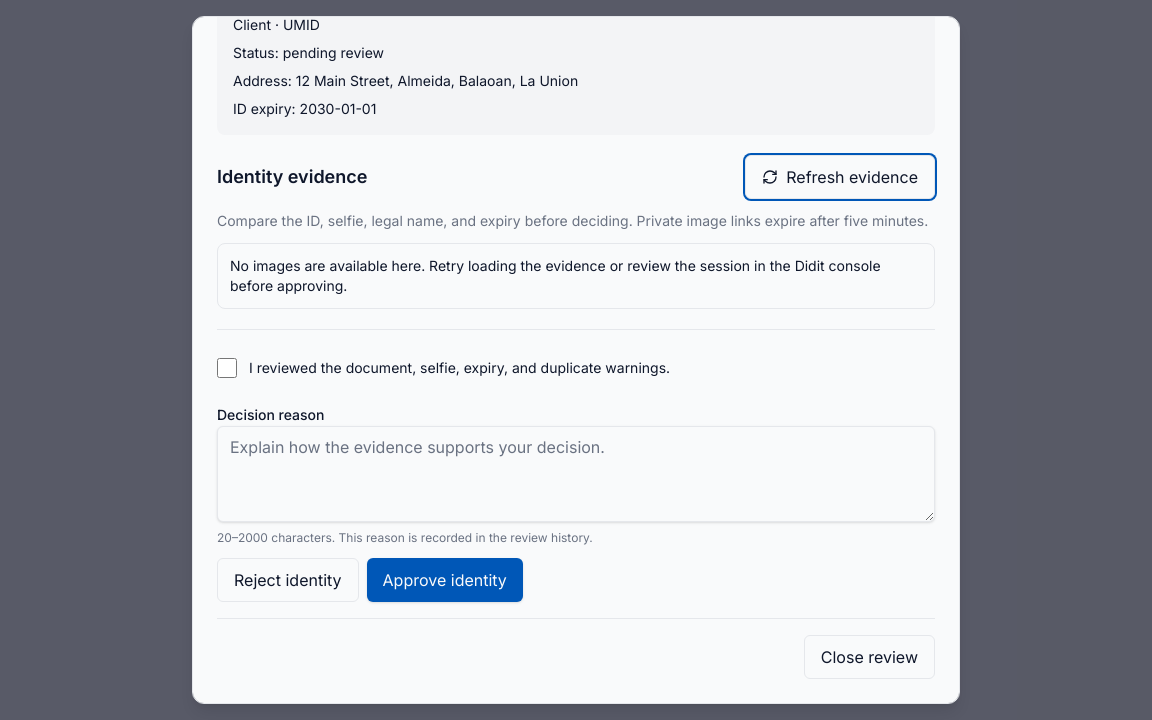
Test: identity review decisions › requires evidence acknowledgement, a reason, and explicit confirmation
(page scrolled)
Expected: the text "Address: 12 Main Street, Almeida, Balaoan, La Union" is shown, 233,72 -> 578,89
Click the button "Approve identity": click(445, 580) 367,558 -> 523,602
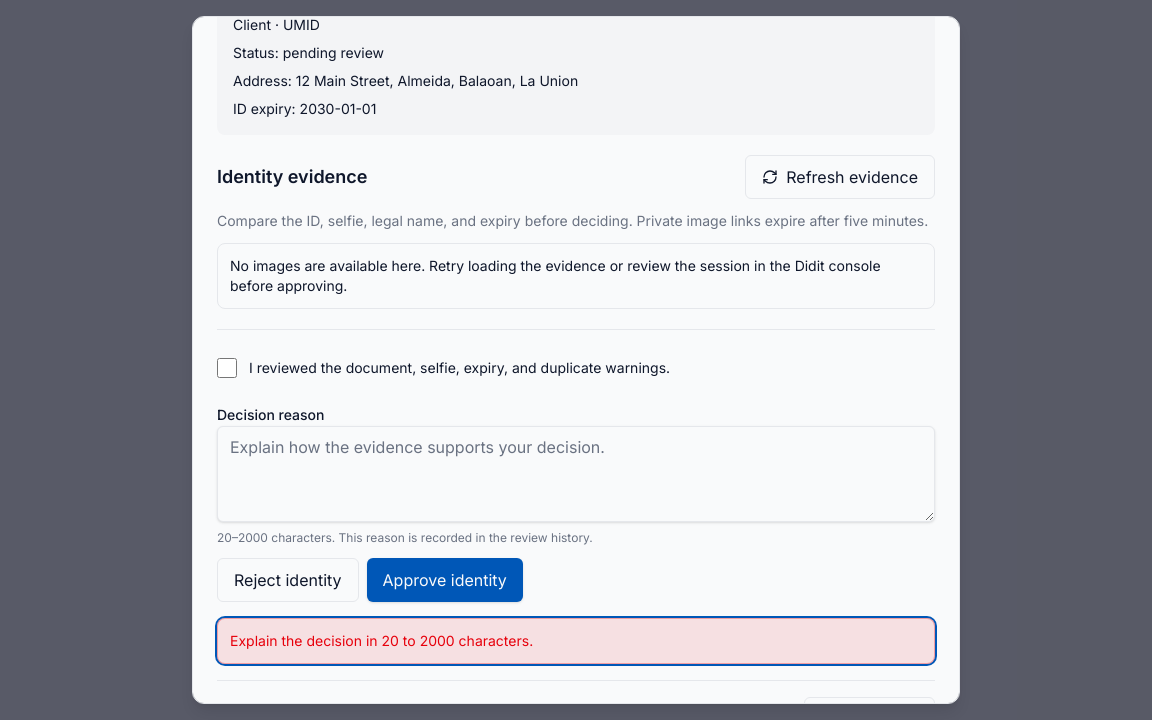
Expected: the message shows "20 to 2000", 230,632 -> 533,649
In the text box labelled "Decision reason": (576, 474) 217,426 -> 935,522, type "The document and selfie match the applicant."
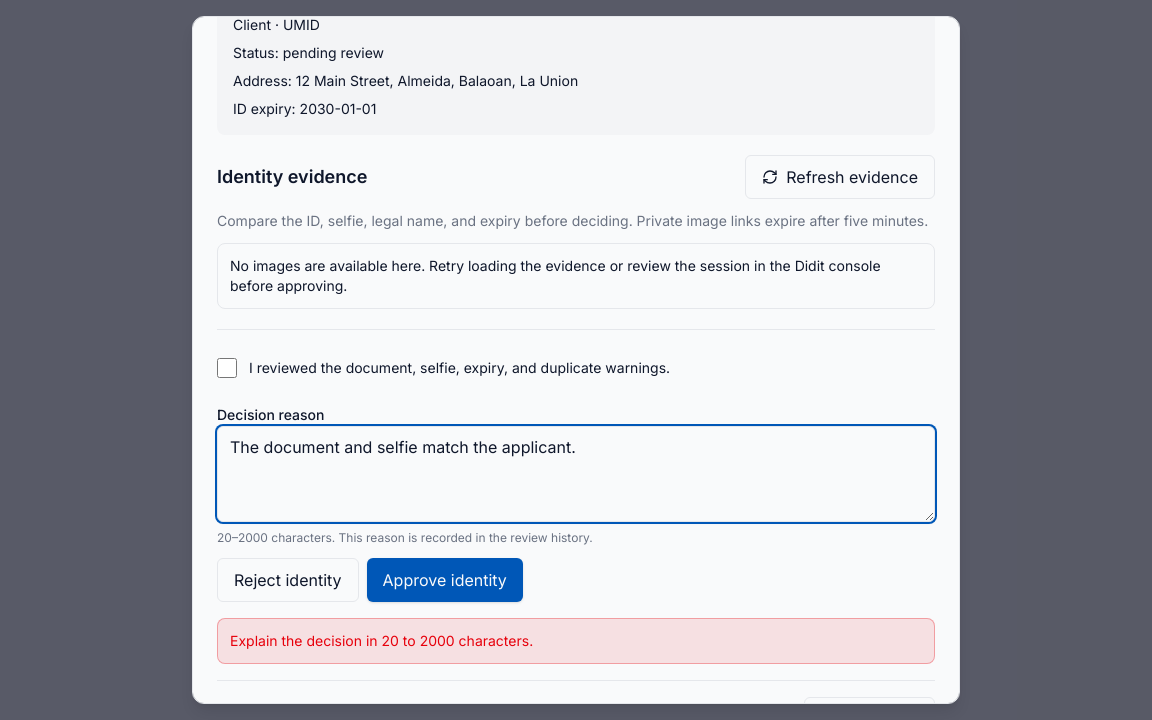
Click the button "Approve identity": click(445, 580) 367,558 -> 523,602
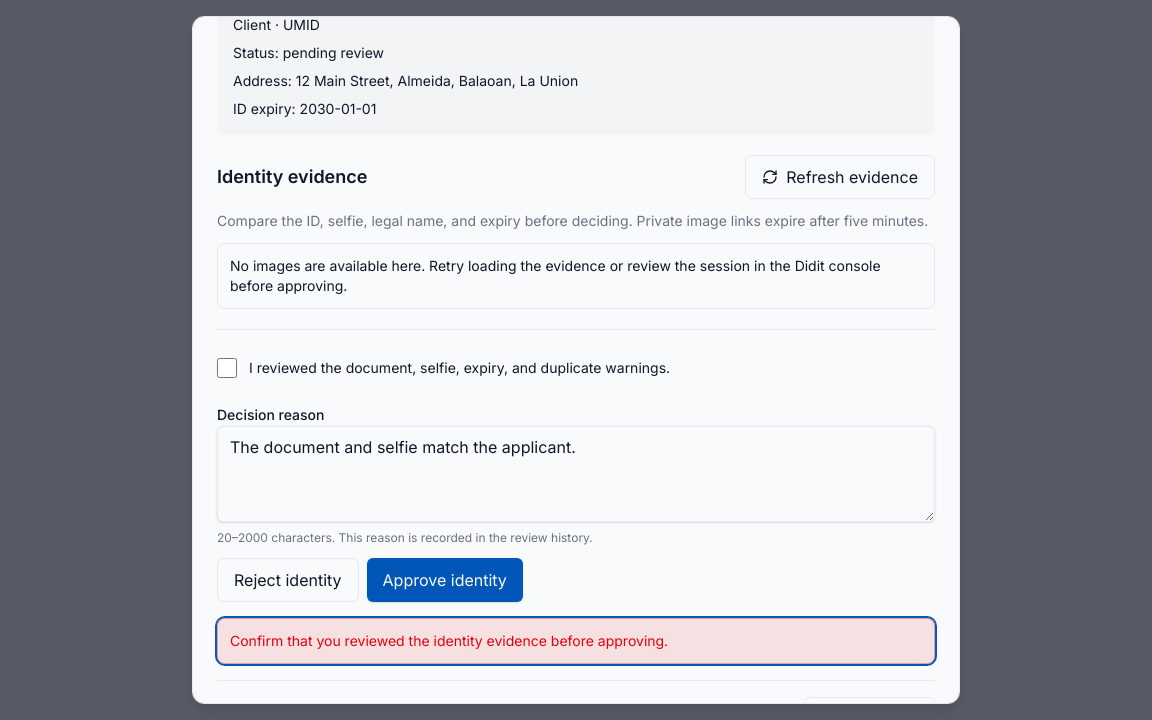
Expected: the message shows "reviewed the identity evidence", 230,632 -> 668,649
Click the checkbox: click(227, 368) 217,358 -> 237,378
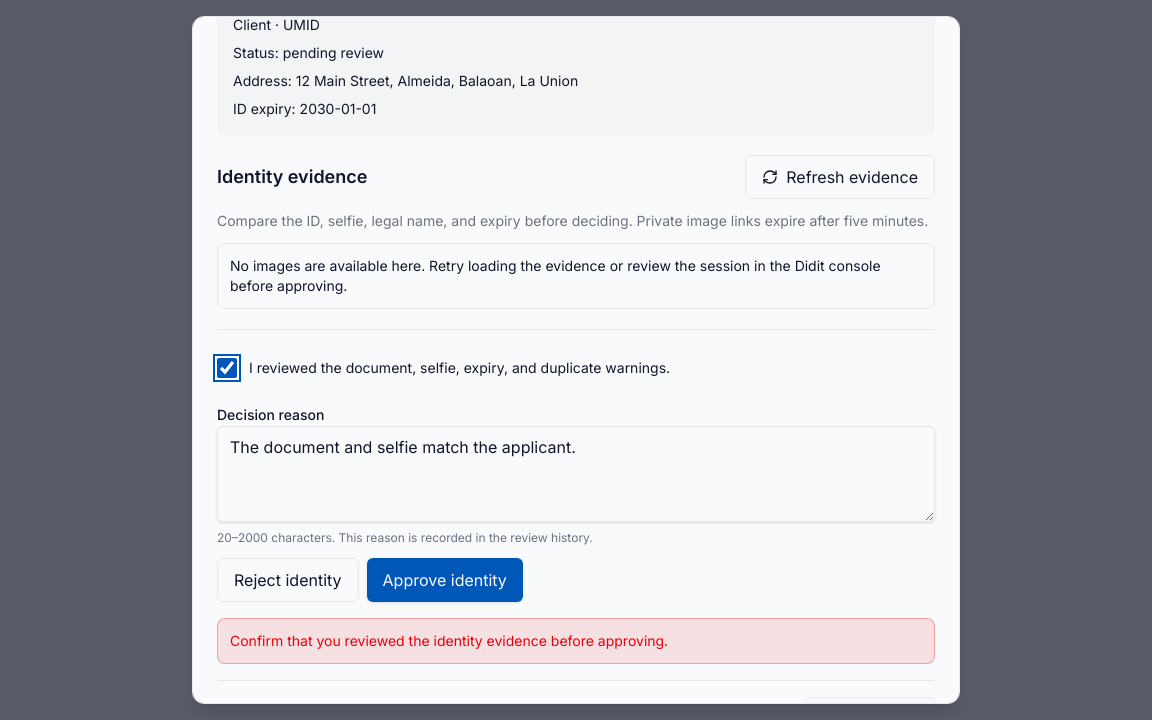
Click the button "Approve identity": click(445, 580) 367,558 -> 523,602
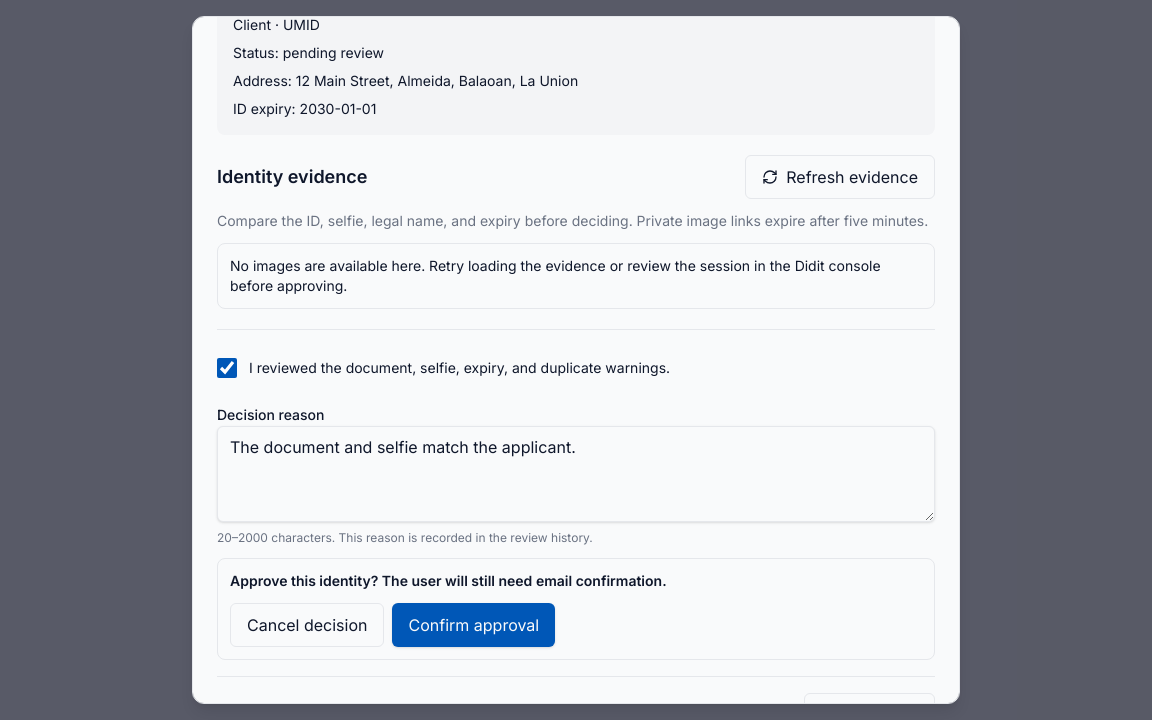
Click the button "Confirm approval": click(474, 625) 392,603 -> 555,647
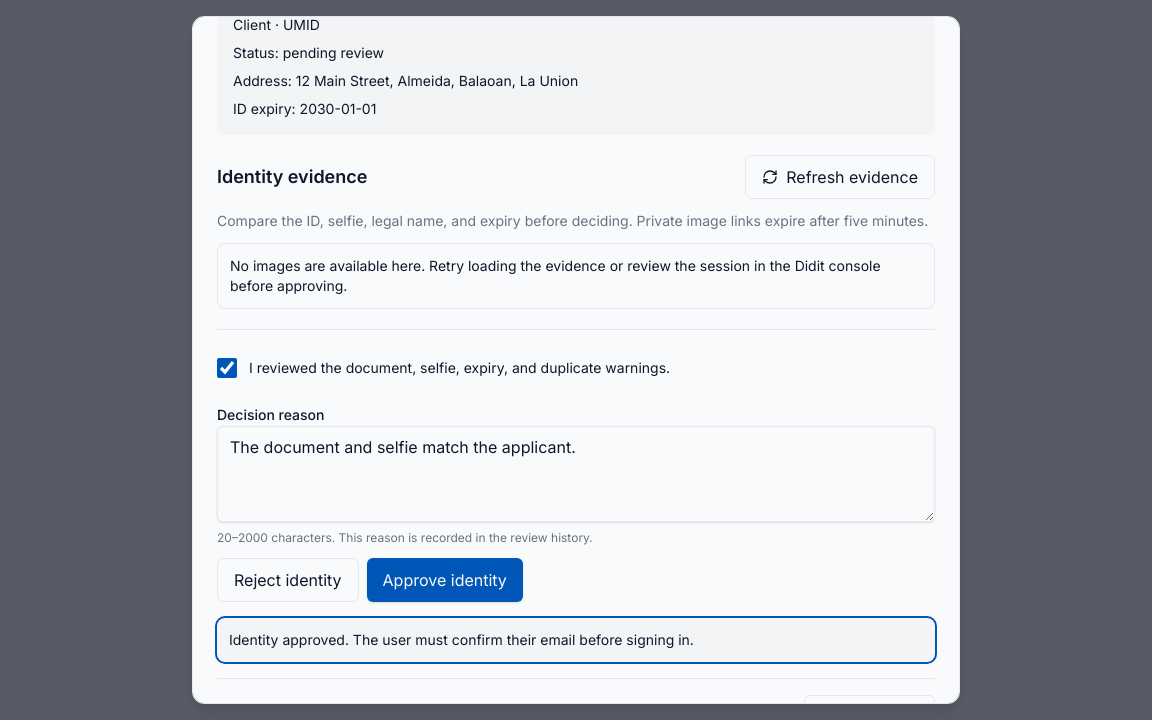
Expected: the message shows "confirm their email", 229,631 -> 694,648
